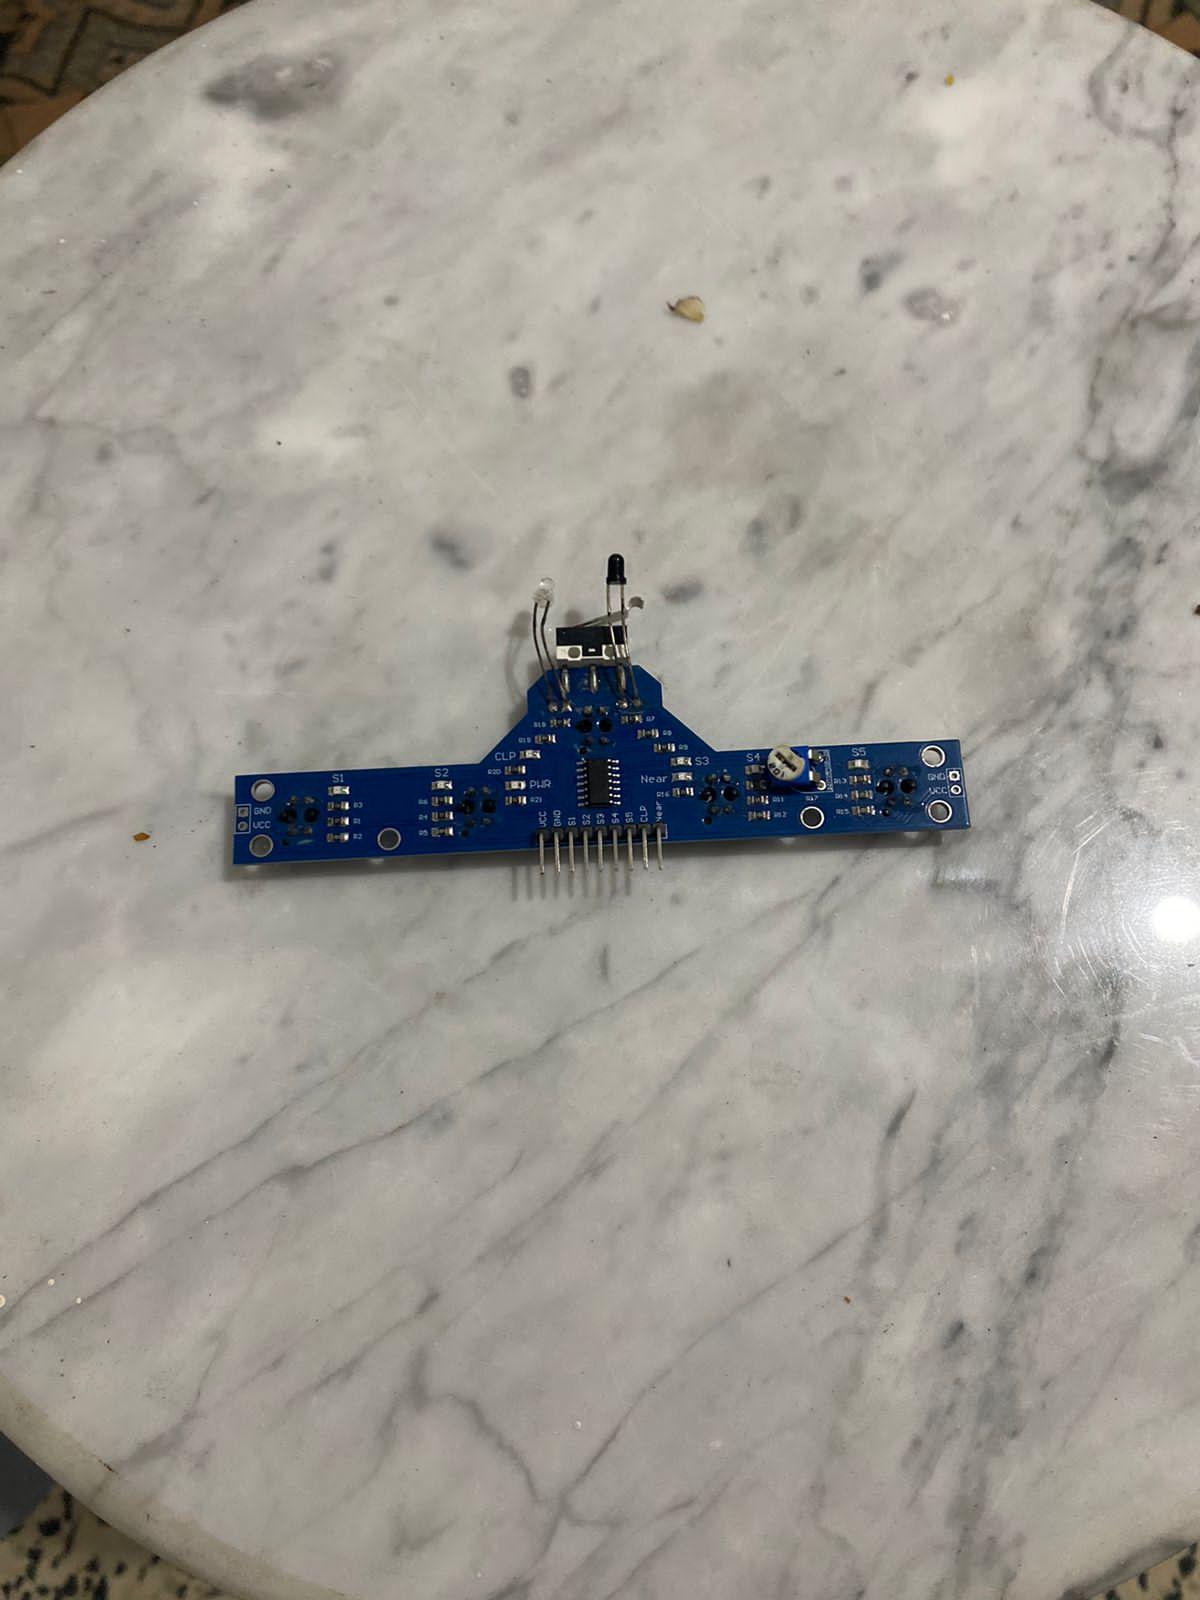Capteur-IR-5 Voies: (219, 548, 982, 893)
